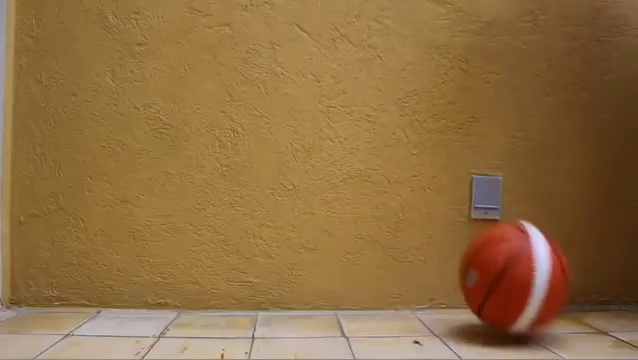ball: (459, 219, 573, 337)
